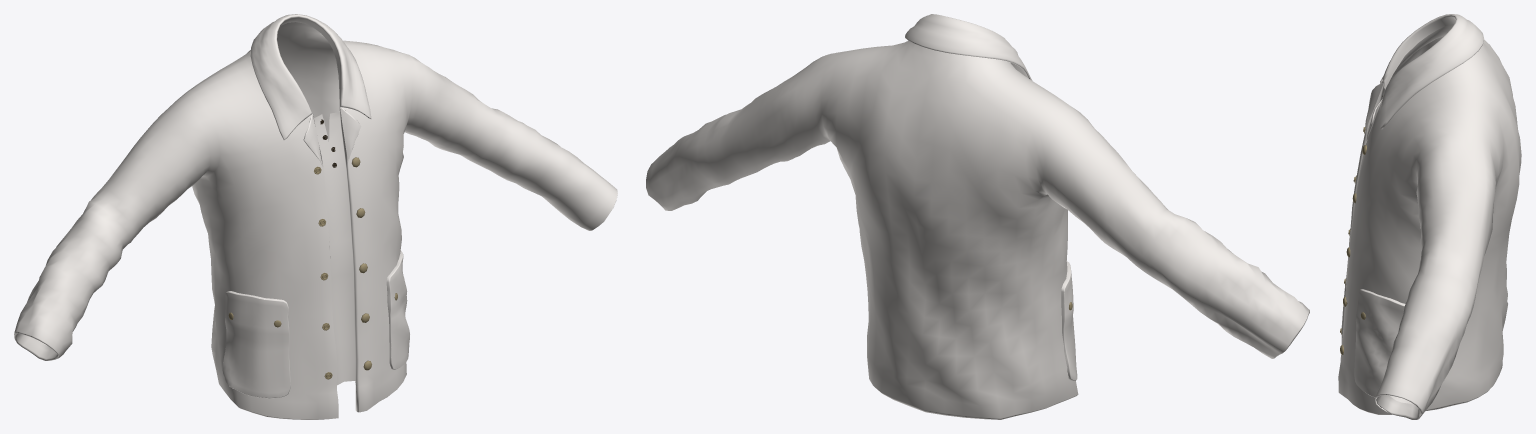
The model's file is DBY_AGC_Jacket_12Regions.glb.
3 renders of one model, left to right at view 1: azimuth 30°, elevation 25°; view 2: azimuth 150°, elevation 25°; view 3: azimuth 270°, elevation 25°, orthographic. The views are drawn at different scales.
Parts seen in each view (by area): view 1: frontLeftBody, leftSleeve, frontRightBody, rightSleeve, collar, leftPocket, frontPlacket, backRightBody, leftCuff, backLeftBody, rightCuff, rightPocket (+1 smaller); view 2: backLeftBody, backRightBody, leftSleeve, rightSleeve, leftCuff, collar, rightCuff, leftPocket, frontLeftBody; view 3: rightSleeve, backRightBody, frontRightBody, rightCuff, collar, rightPocket, backLeftBody, frontPlacket, frontLeftBody, AGC_DecorativeButtons.
Boxes of the visible parts, x1,y1,x2,y2 form: frontLeftBody: (217,78,338,419); leftSleeve: (48,84,236,323); frontRightBody: (340,53,406,412); rightSleeve: (369,43,568,207); collar: (250,14,371,166); leftPocket: (222,291,290,398); frontPlacket: (314,112,359,385); backRightBody: (277,22,387,141); leftCuff: (14,251,80,360); backLeftBody: (192,24,283,390); rightCuff: (543,136,617,230); rightPocket: (386,250,409,369); backLeftBody: (914,51,1069,419); backRightBody: (827,40,936,411); leftSleeve: (1013,94,1238,330); rightSleeve: (679,49,860,199); leftCuff: (1215,255,1309,358); collar: (905,14,1032,80); rightCuff: (646,133,701,210); leftPocket: (1061,261,1077,380); frontLeftBody: (1006,61,1078,402); rightSleeve: (1394,113,1501,356); backRightBody: (1408,46,1521,411); frontRightBody: (1338,82,1442,414); rightCuff: (1375,311,1456,419); collar: (1365,14,1483,142); rightPocket: (1354,289,1405,397); backLeftBody: (1417,24,1518,330); frontPlacket: (1341,87,1385,344); frontLeftBody: (1340,37,1434,360); AGC_DecorativeButtons: (1340,96,1382,354).
Bounding box in the file's own units: 2 × 1.15 × 0.5213.
13 materials, 1 textured.
